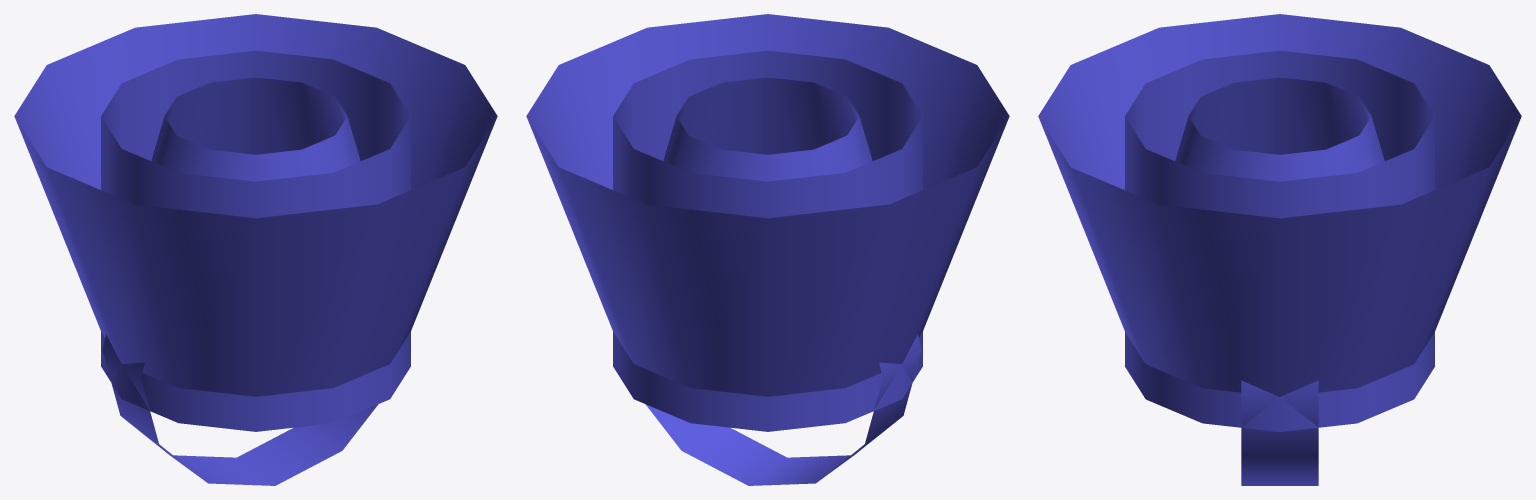
Rendered from primitives.obj.
3 views of the same model, side by side, from view 1: azimuth 30°, elevation 25°; view 2: azimuth 150°, elevation 25°; view 3: azimuth 270°, elevation 25° (orthographic).
Parts seen in each view (by area): view 1: beltHigh_003, beltHigh_001, beltHigh_002, belt_001, belt_002; view 2: beltHigh_003, beltHigh_001, beltHigh_002, belt_001, belt_002; view 3: beltHigh_003, beltHigh_001, beltHigh_002, belt_001, belt_002.
Part boxes in pixels (x1,y1,x2,y2): beltHigh_003: [14, 14, 497, 396]; beltHigh_001: [101, 50, 410, 218]; beltHigh_002: [151, 77, 360, 181]; belt_001: [101, 332, 410, 431]; belt_002: [102, 334, 377, 485]; beltHigh_003: [526, 14, 1009, 396]; beltHigh_001: [613, 50, 922, 218]; beltHigh_002: [663, 77, 872, 181]; belt_001: [613, 332, 922, 431]; belt_002: [646, 334, 921, 485]; beltHigh_003: [1038, 14, 1521, 396]; beltHigh_001: [1125, 50, 1434, 218]; beltHigh_002: [1175, 77, 1384, 181]; belt_001: [1125, 332, 1434, 431]; belt_002: [1241, 380, 1318, 485].
Bounding box in the file's own units: 31.19 × 25.32 × 31.19.
